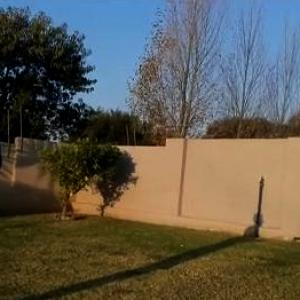follow: (0, 53, 9, 299)
